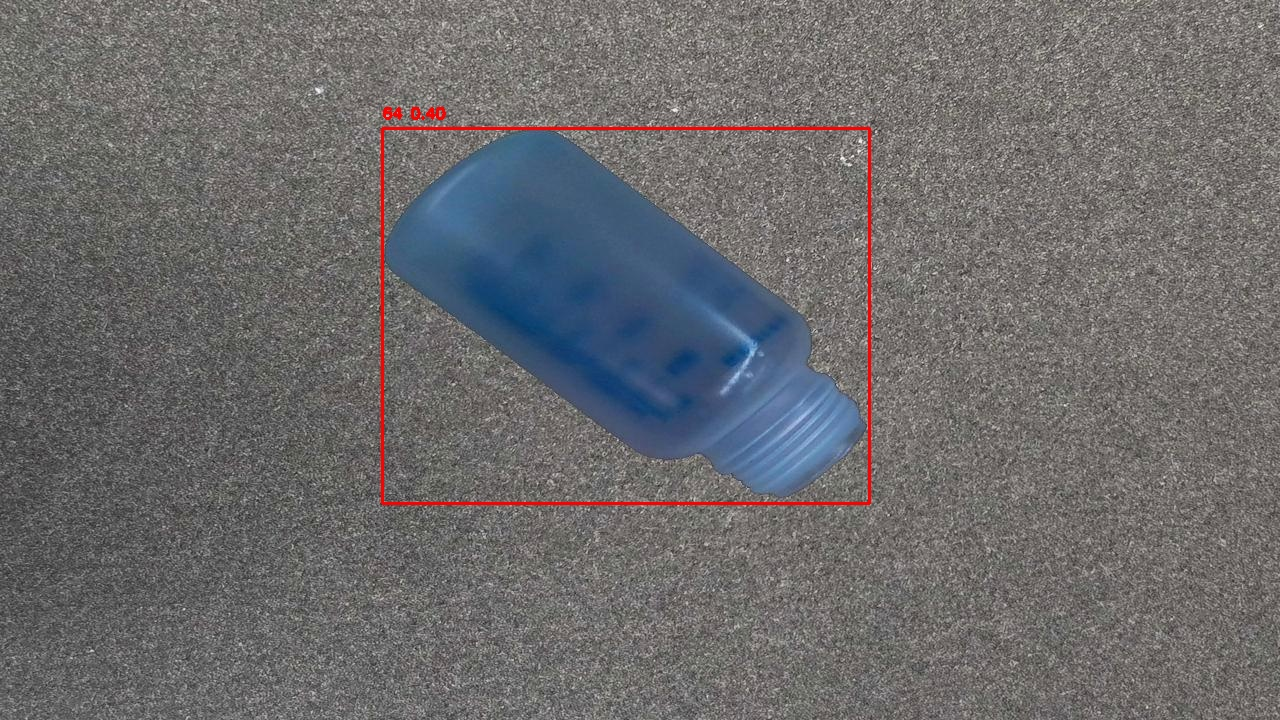cup: (382, 128, 869, 503)
